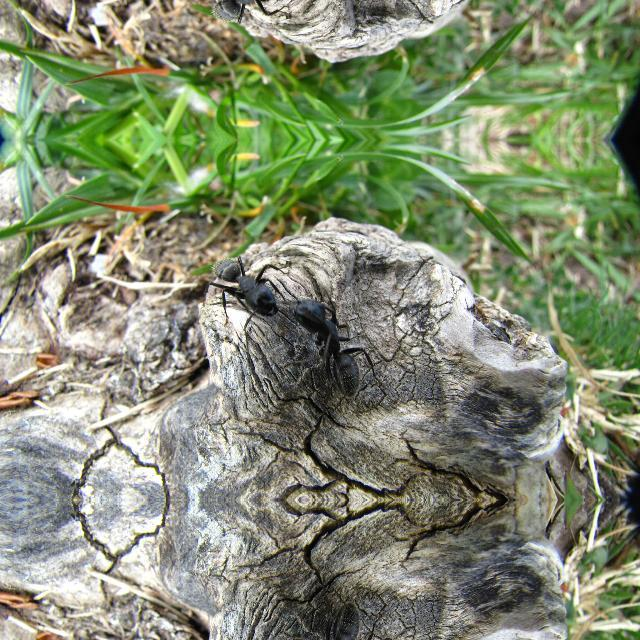Camponotus: (284, 288, 386, 412), (208, 247, 288, 327), (284, 588, 384, 640), (207, 0, 286, 32)
